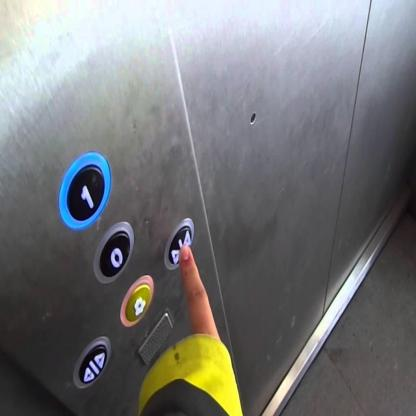0: (92, 219, 135, 287)
1: (57, 148, 112, 233)
alarm: (119, 273, 155, 329)
close: (162, 216, 197, 272)
open: (71, 334, 112, 392)
